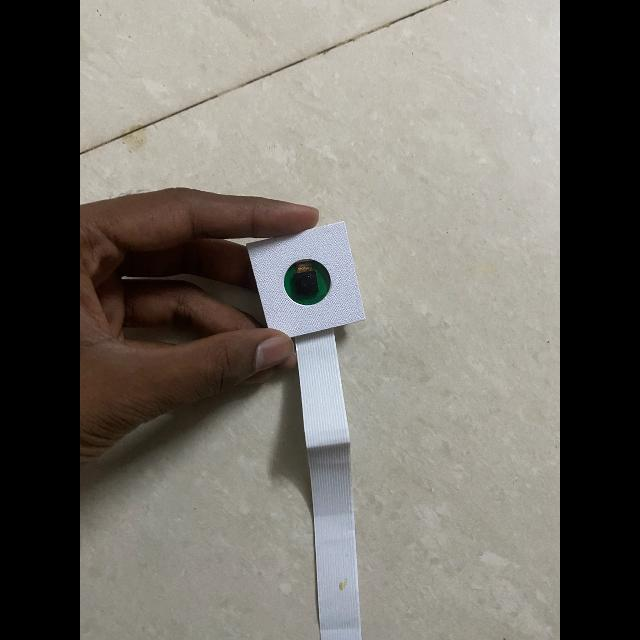RASPBERY PI CAM ENCLOSURE: (246, 220, 366, 338)
